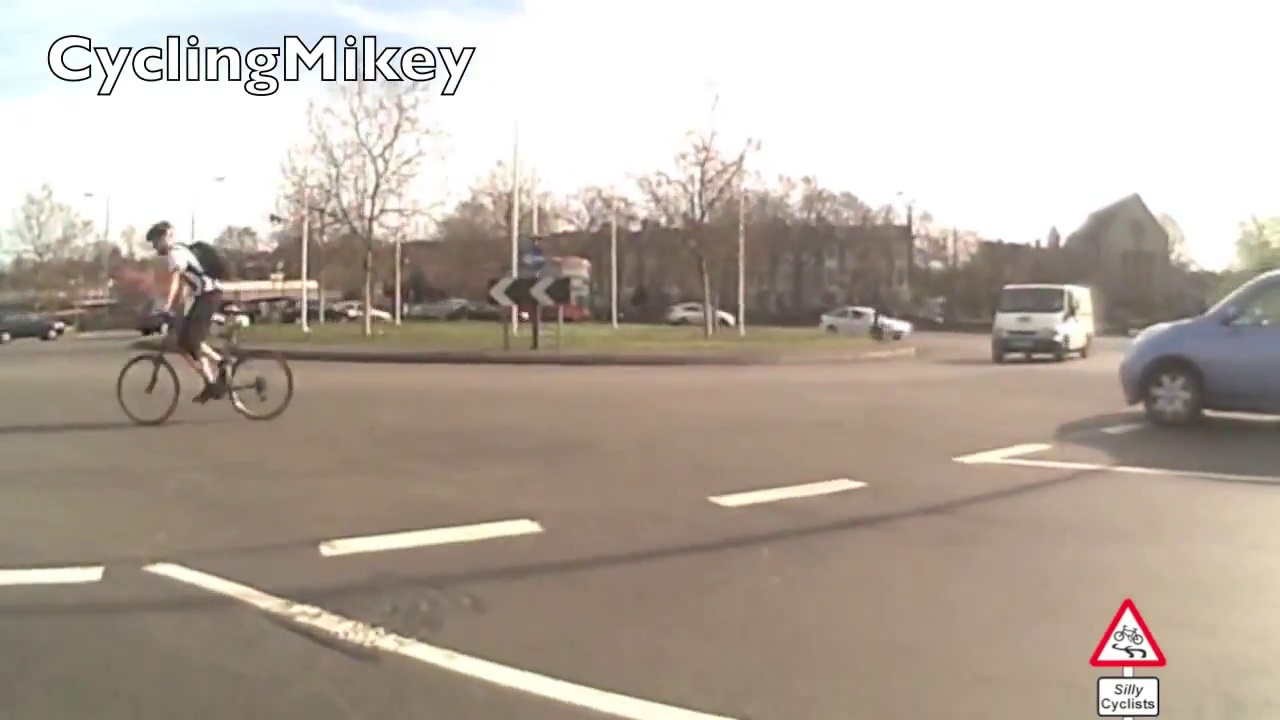cyclist_side: (114, 222, 300, 426)
